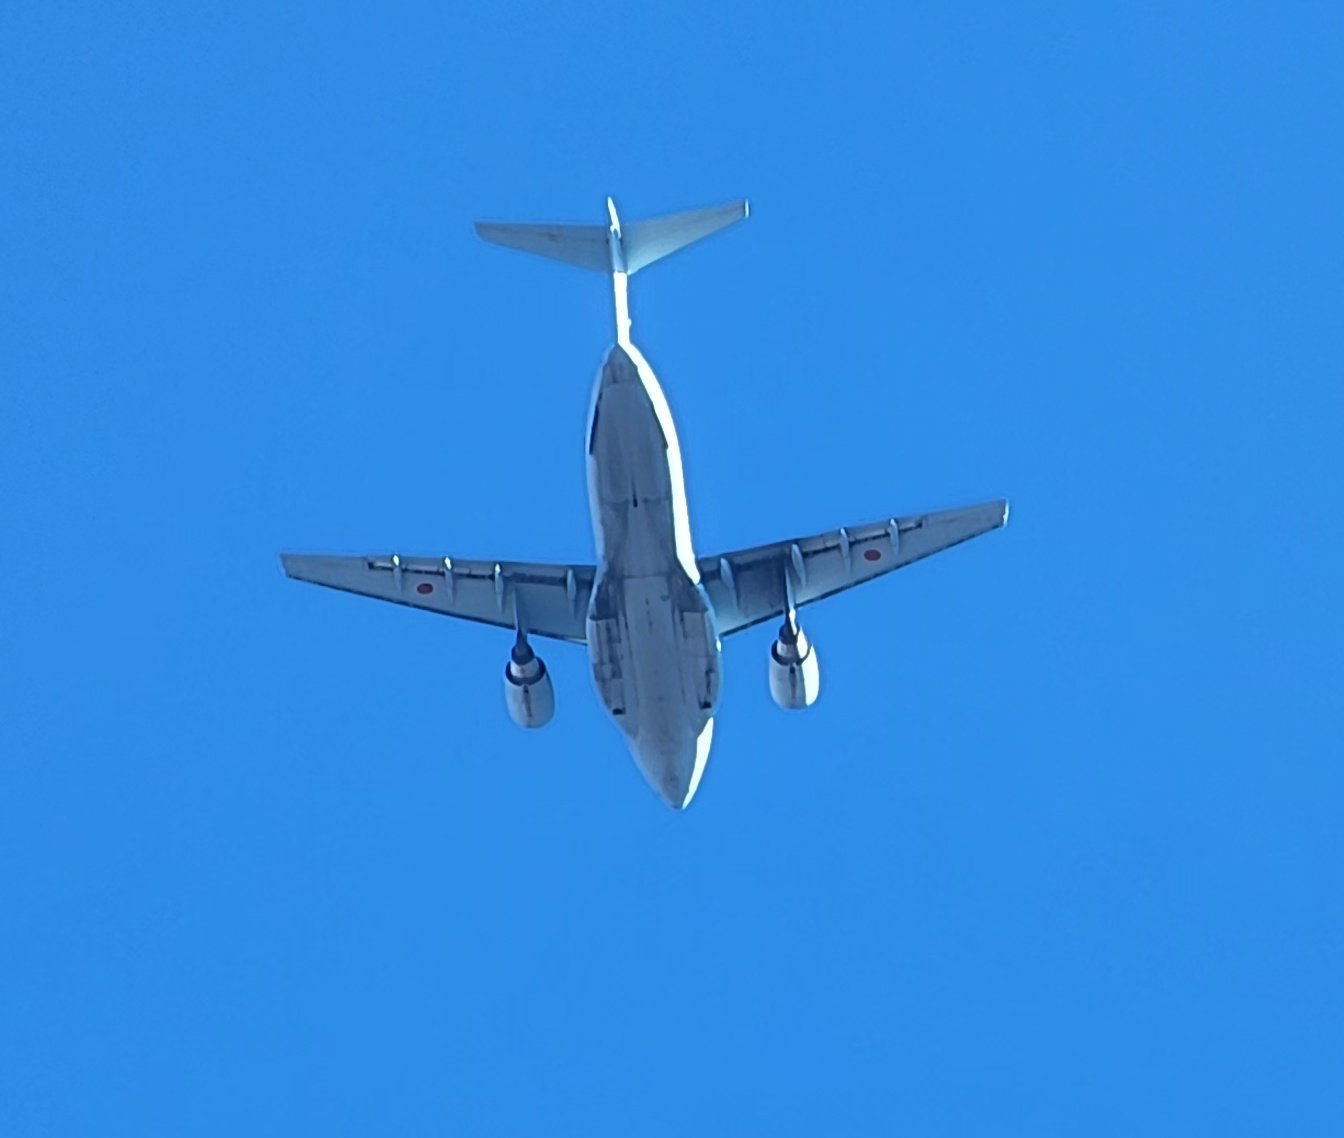airplane: (279, 195, 1010, 812)
